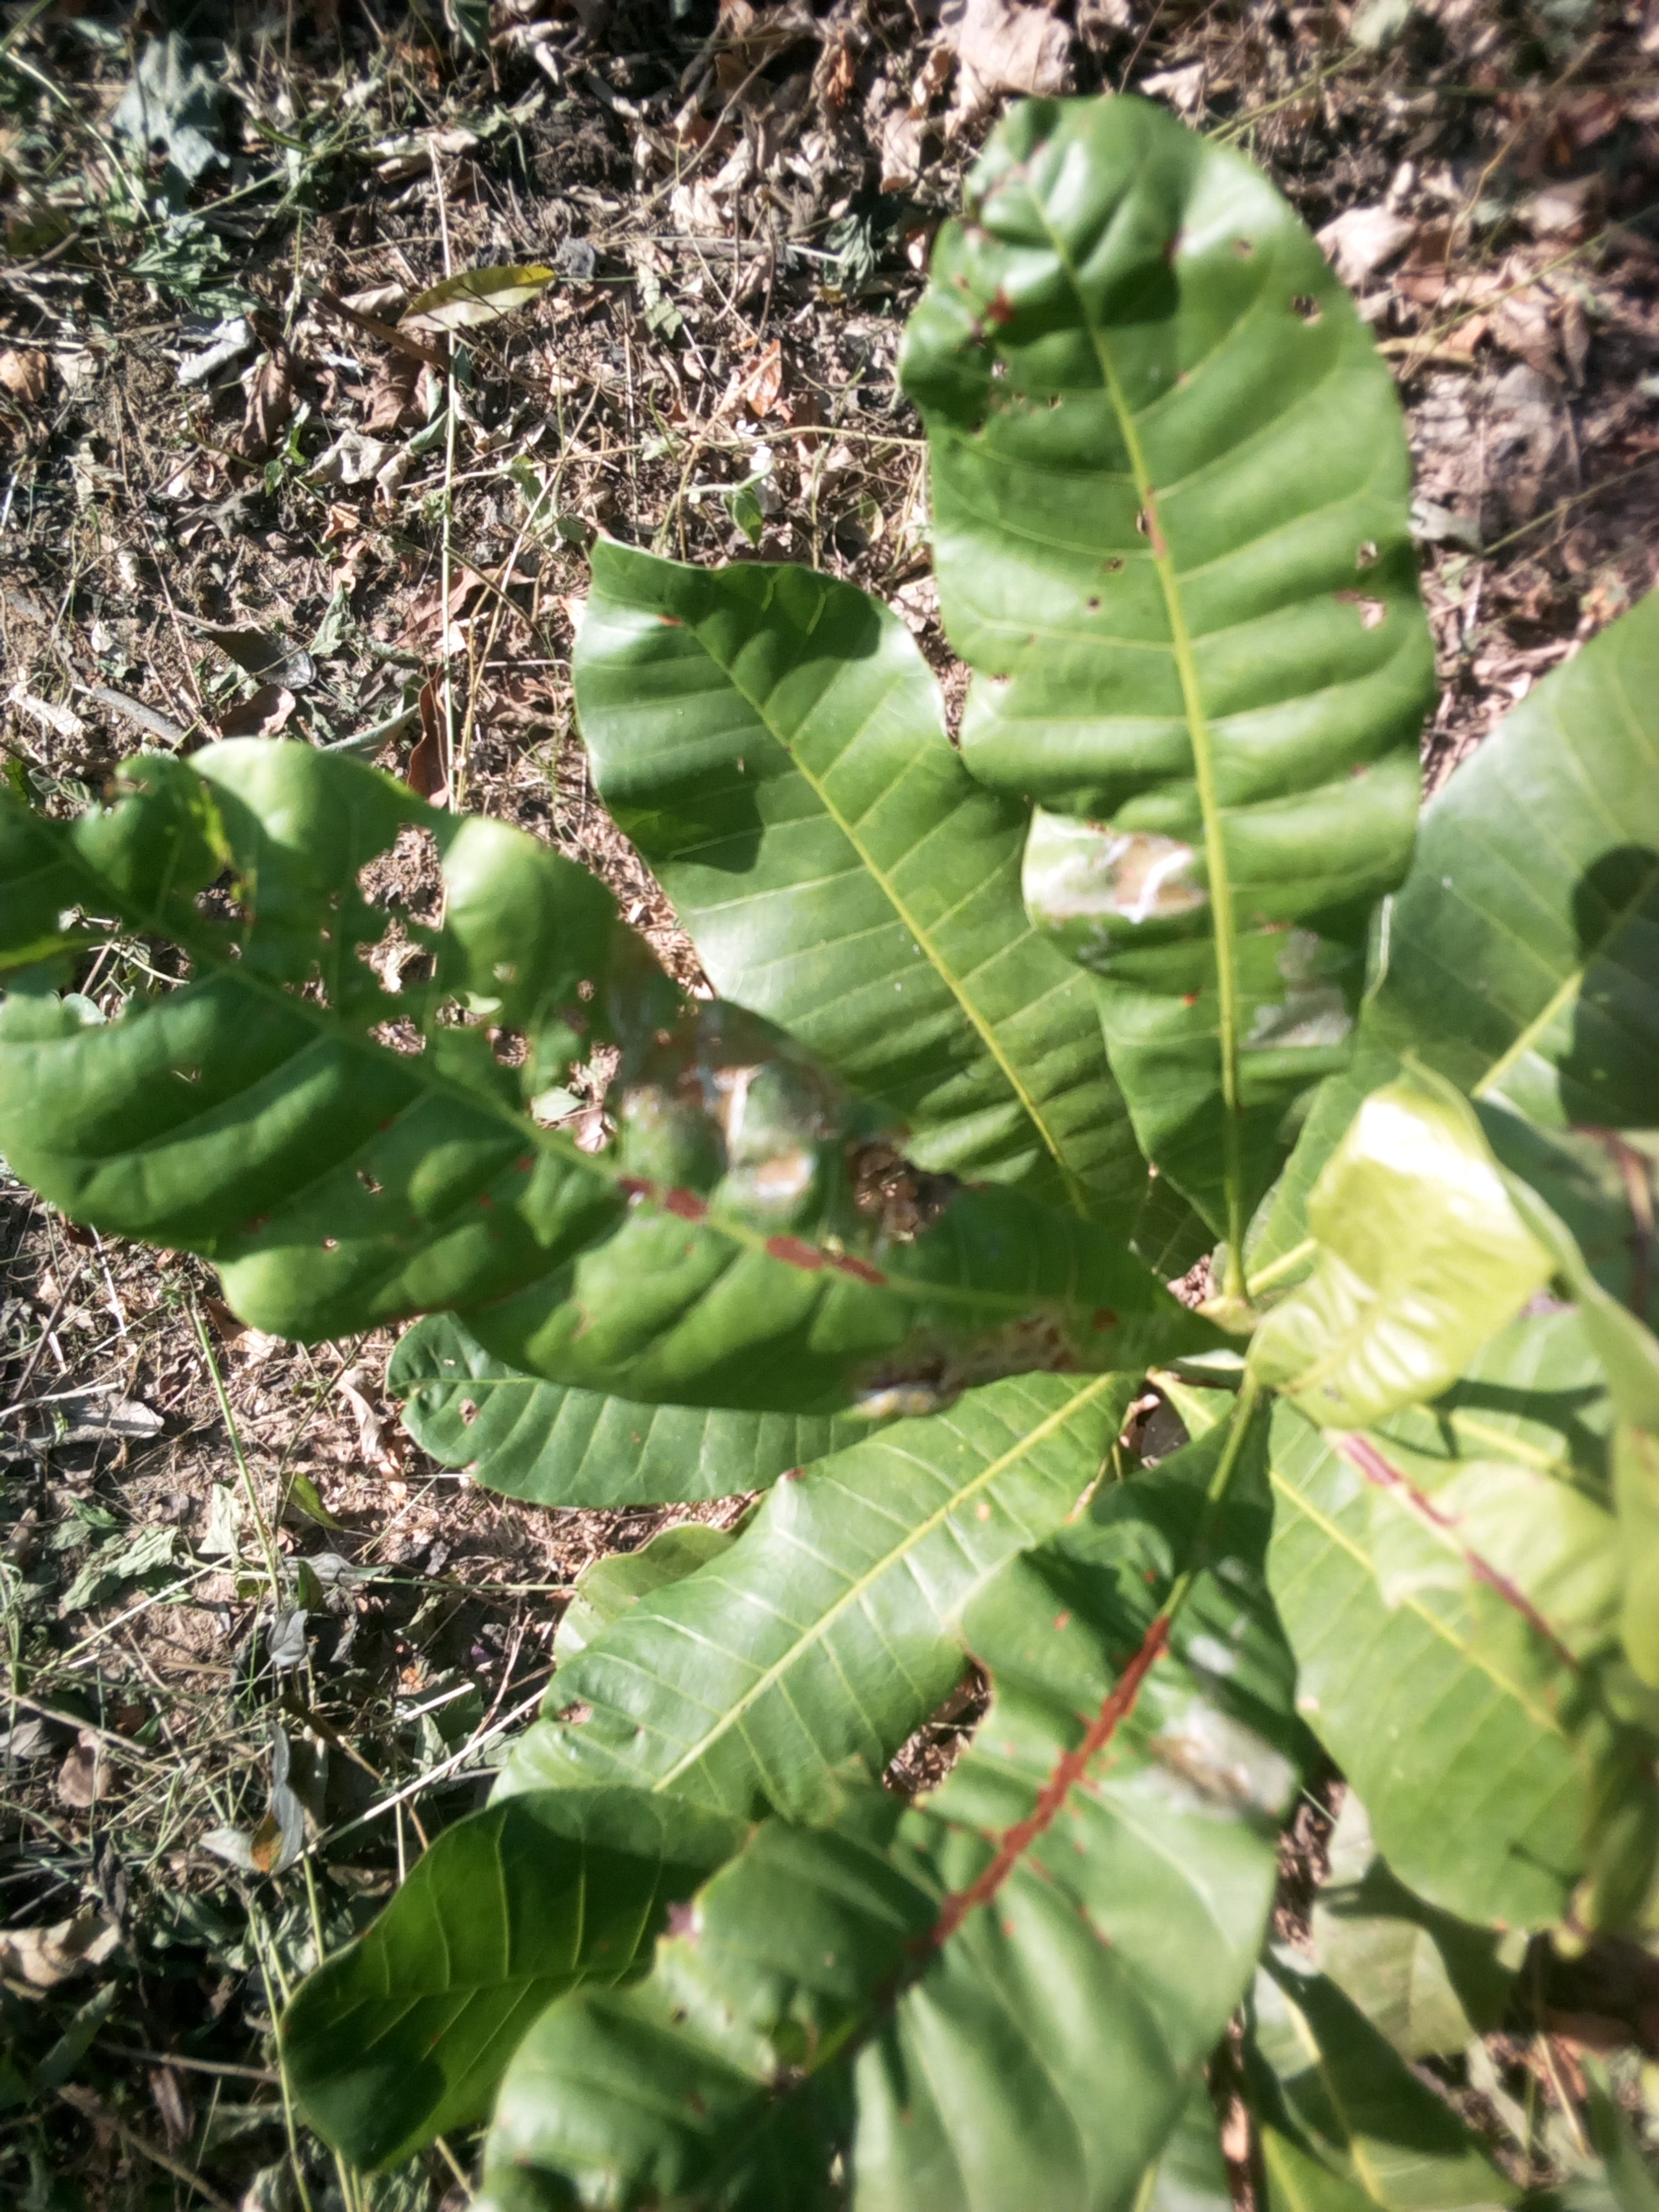Helopeltis anacardii: (7, 756, 1244, 1399), (483, 1480, 1269, 2212), (910, 98, 1443, 806)
